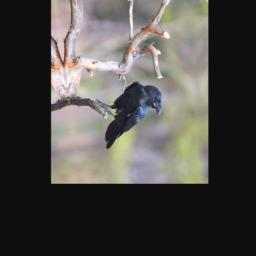Crow: (94, 78, 169, 152)
